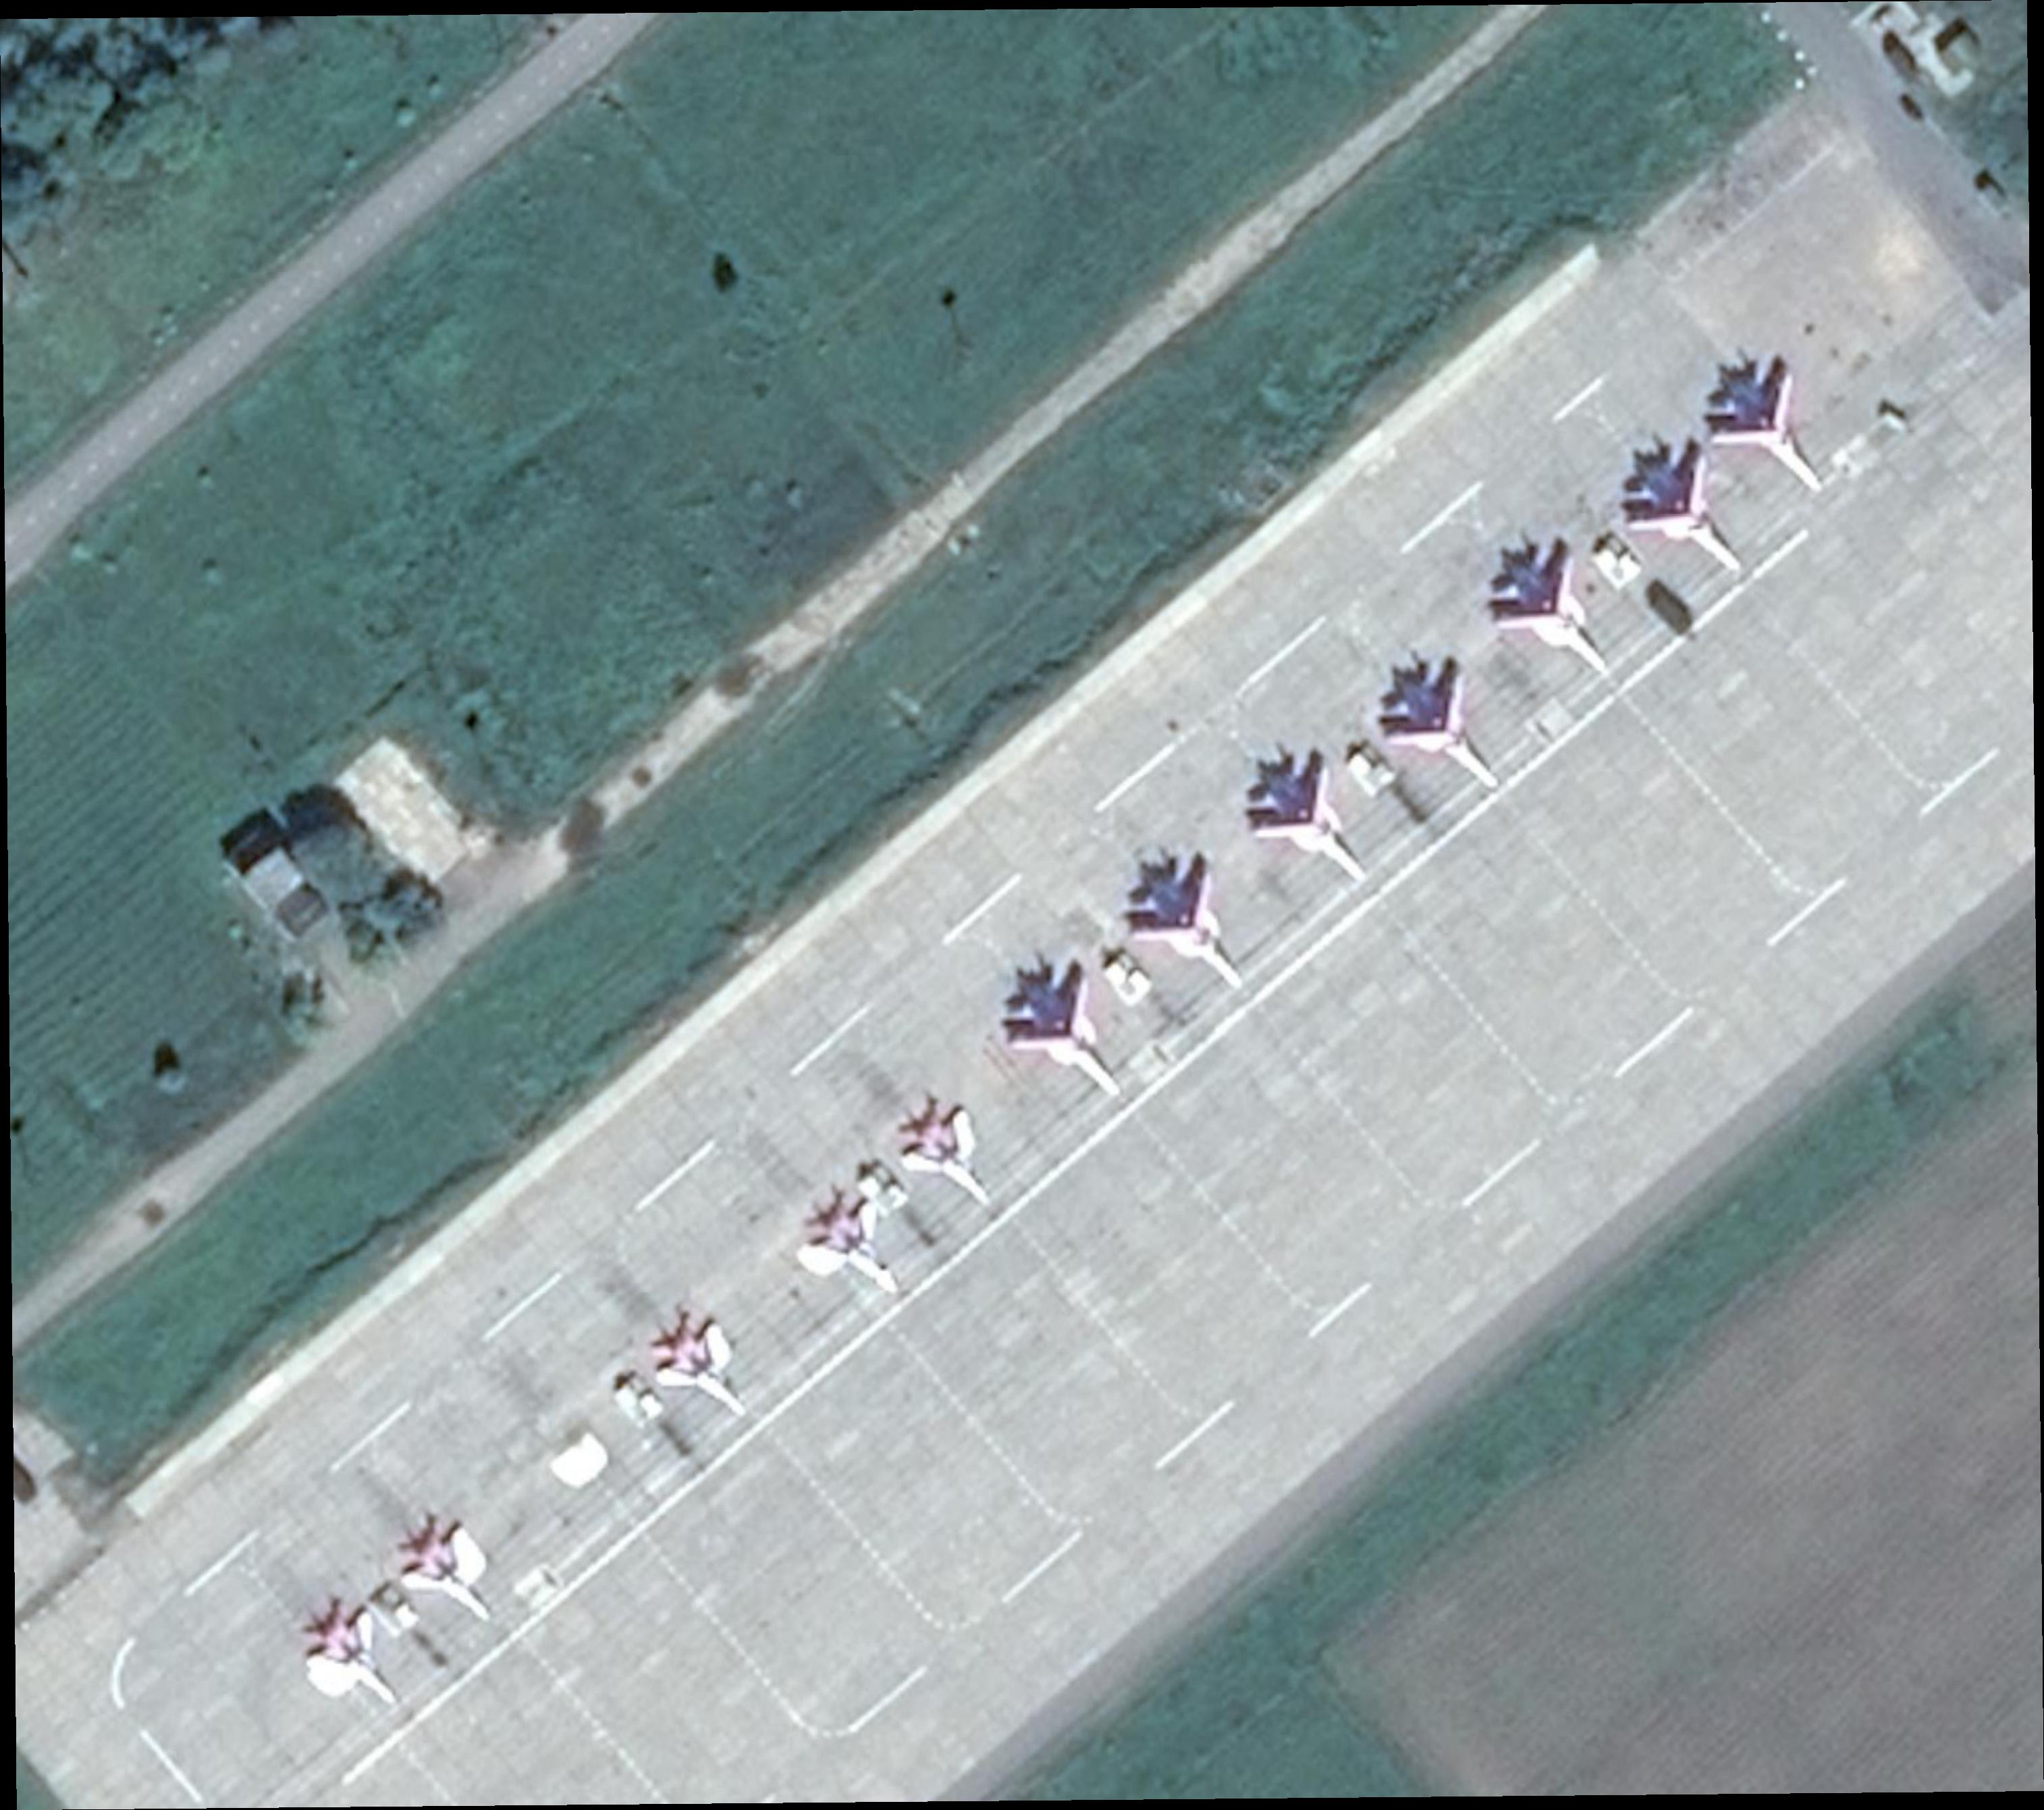plane: (1592, 418, 1778, 606), (1464, 515, 1644, 708), (978, 938, 1158, 1129), (1675, 332, 1855, 521), (1099, 826, 1275, 1017), (1356, 638, 1530, 823), (1226, 732, 1396, 915), (377, 1497, 522, 1649), (783, 1176, 929, 1324), (281, 1586, 425, 1738), (629, 1296, 774, 1443), (880, 1083, 1017, 1228)
